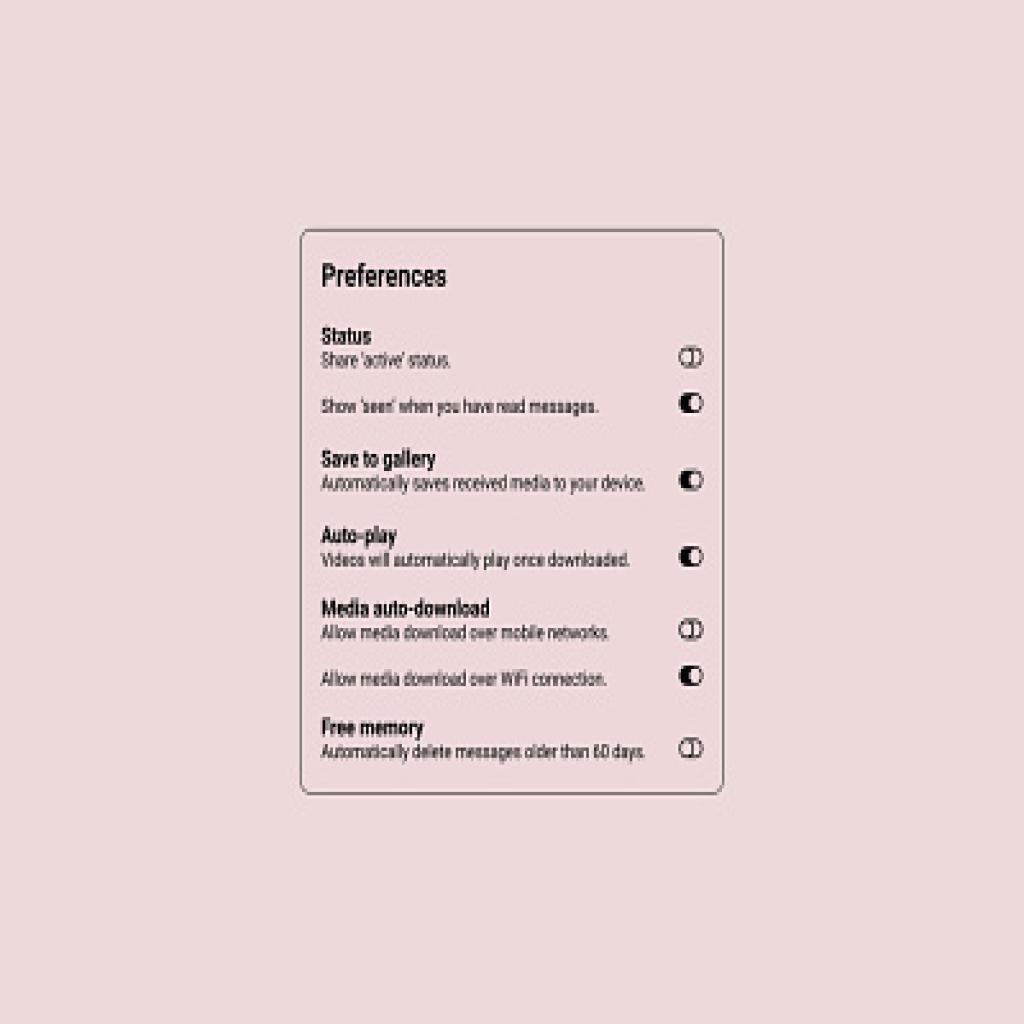switch: (675, 341, 712, 372), (676, 659, 710, 690), (675, 462, 706, 495), (676, 541, 708, 572), (677, 732, 705, 766), (676, 389, 707, 419), (679, 617, 706, 646)
